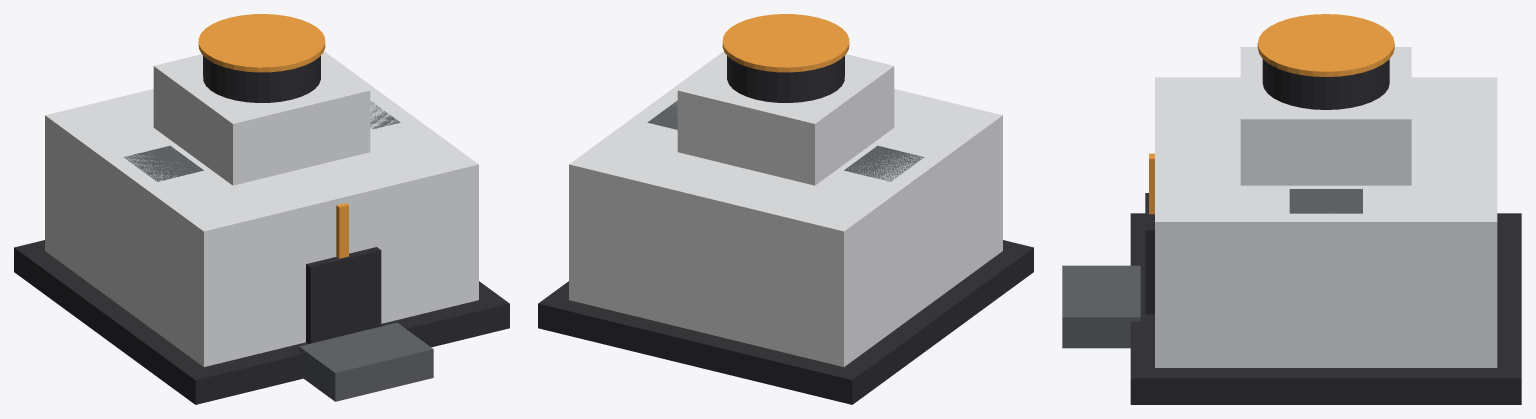
File: SM_PWR1_PowerNode.glb
3 renders of one model, left to right at view 1: azimuth 30°, elevation 25°; view 2: azimuth 150°, elevation 25°; view 3: azimuth 270°, elevation 25°, orthographic. The views are drawn at different scales.
Visible parts, largest first — view 1: SM_PWR1_PowerNode; view 2: SM_PWR1_PowerNode; view 3: SM_PWR1_PowerNode.
Part boxes in pixels (bbox=[...]): SM_PWR1_PowerNode: bbox=[14, 14, 509, 404]; SM_PWR1_PowerNode: bbox=[538, 14, 1033, 404]; SM_PWR1_PowerNode: bbox=[1062, 14, 1521, 404].
Bounding box in the file's own units: 8 × 6.31 × 9.4.
